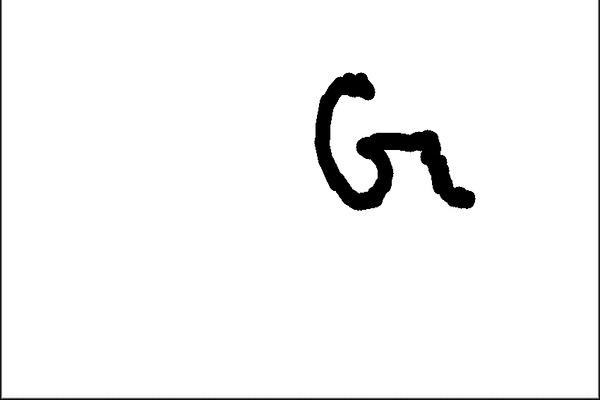G: (312, 67, 477, 216)
